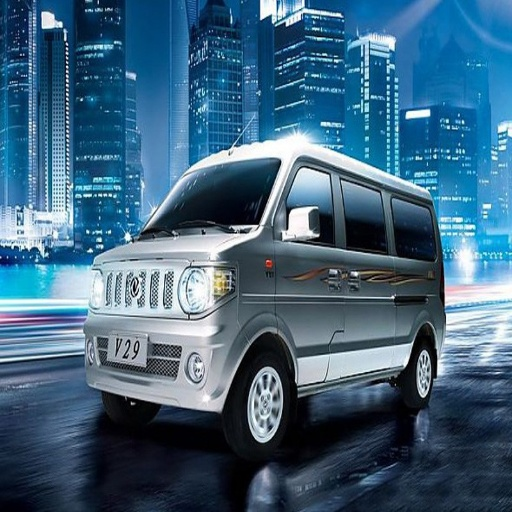front_bumper: (84, 266, 246, 407)
front_glass: (141, 160, 279, 237)
front_left_door: (273, 161, 339, 267)
trunk: (401, 274, 437, 342)
